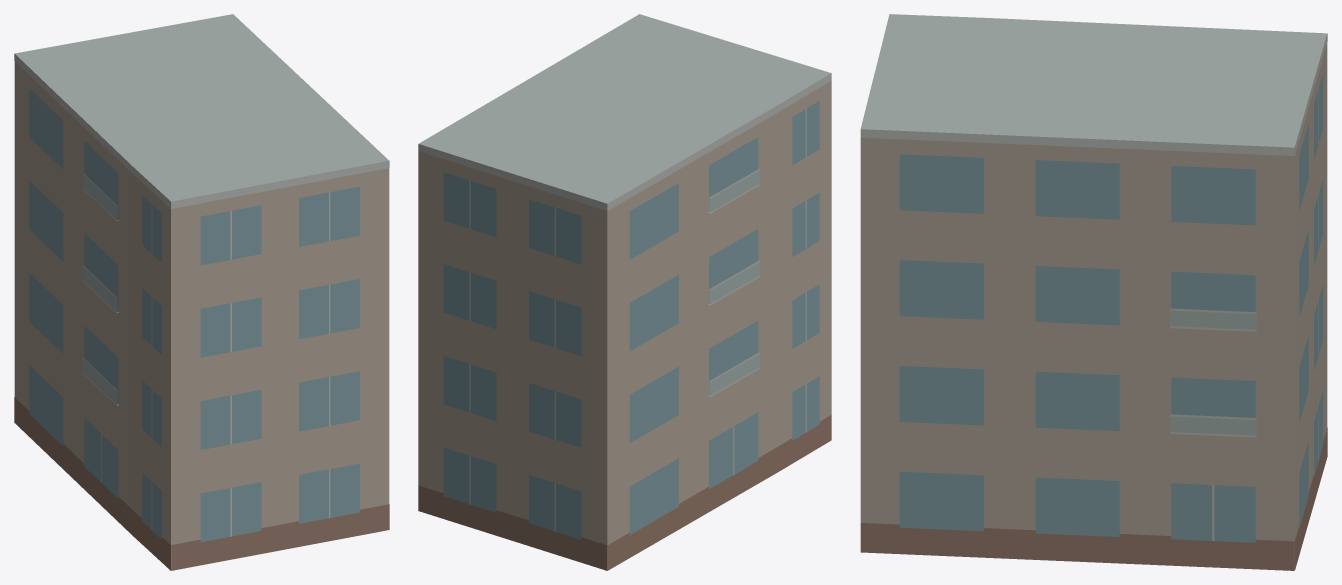
The model's file is survey-upis-33036591.glb.
3 views of the same model, side by side, from view 1: azimuth 30°, elevation 25°; view 2: azimuth 150°, elevation 25°; view 3: azimuth 270°, elevation 25° (orthographic). The views are drawn at different scales.
Parts seen in each view (by area): view 1: survey-upis-33036591.tmp; view 2: survey-upis-33036591.tmp; view 3: survey-upis-33036591.tmp.
Part boxes in pixels (<box>): survey-upis-33036591.tmp: <box>14,14,389,570</box>; survey-upis-33036591.tmp: <box>418,14,831,570</box>; survey-upis-33036591.tmp: <box>860,14,1327,570</box>.
Bounding box in the file's own units: 8.27 × 12.2 × 12.21.
